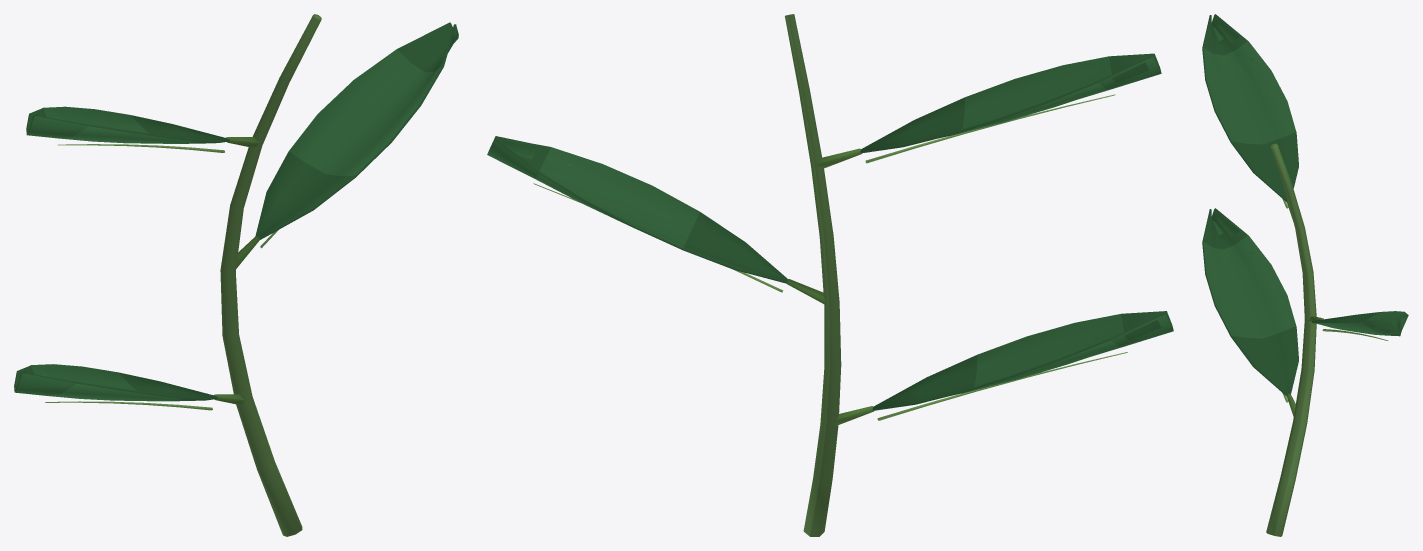
Rendered from garden-tulip-bloom-stem-1.glb.
The picture shows the model from 3 angles, left to right: view 1: azimuth 30°, elevation 25°; view 2: azimuth 150°, elevation 25°; view 3: azimuth 270°, elevation 25°; orthographic projection. The views are drawn at different scales.
Parts seen in each view (by area): view 1: tulip-bloom-stem-1; view 2: tulip-bloom-stem-1; view 3: tulip-bloom-stem-1.
Part boxes in pixels (left/top/right/bottom): tulip-bloom-stem-1: left=14, top=14, right=458, bottom=536; tulip-bloom-stem-1: left=487, top=14, right=1173, bottom=536; tulip-bloom-stem-1: left=1202, top=14, right=1408, bottom=536.
Bounding box in the file's own units: 0.4172 × 0.3686 × 0.169.
